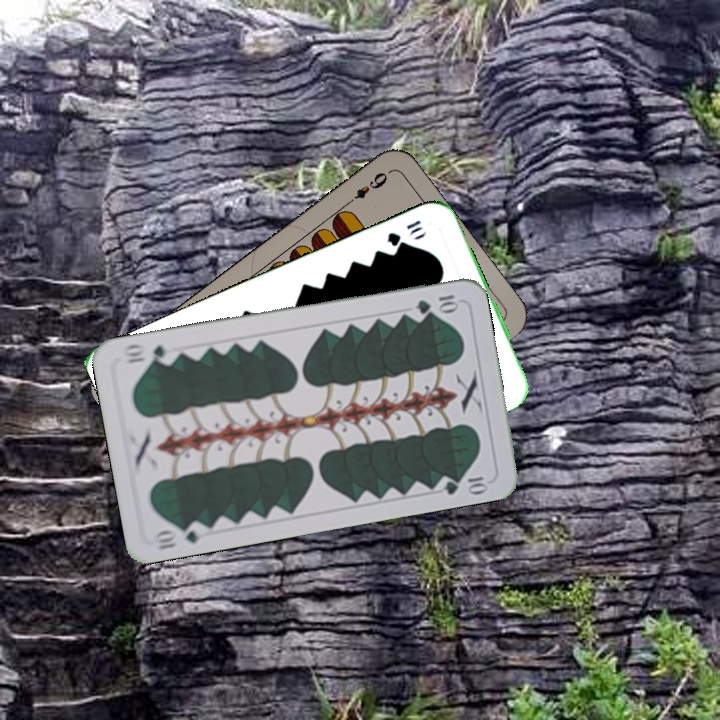E9: (342, 168, 390, 208)
G10: (150, 518, 209, 552), (383, 216, 426, 250), (412, 290, 461, 316)
